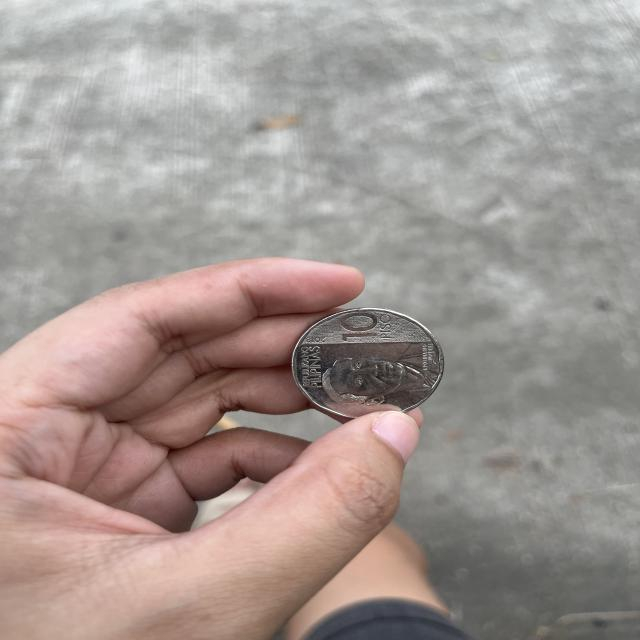10_New_Front: (332, 304, 401, 346)
